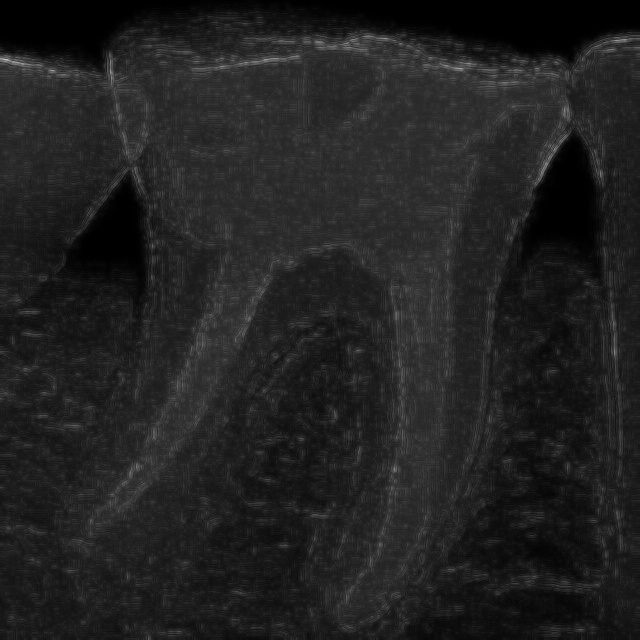Class 0- No endodontic treatment: (42, 5, 606, 640)
